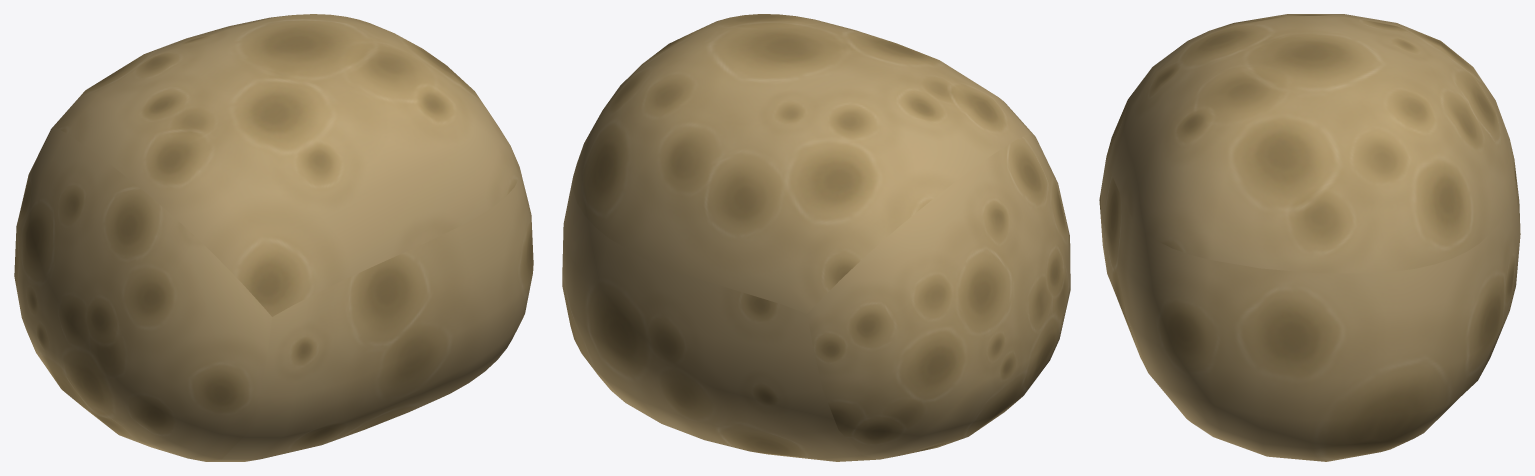
Rendered from Coral 2.fbx.
The picture shows the model from 3 angles, left to right: view 1: azimuth 30°, elevation 25°; view 2: azimuth 150°, elevation 25°; view 3: azimuth 270°, elevation 25°; orthographic projection. The views are drawn at different scales.
Parts seen in each view (by area): view 1: Coral 2; view 2: Coral 2; view 3: Coral 2.
Part boxes in pixels (x1,y1,x2,y2): Coral 2: [14, 14, 533, 461]; Coral 2: [562, 14, 1070, 461]; Coral 2: [1099, 14, 1520, 461].
Size of the model in its own units: 365 by 292 by 308.
